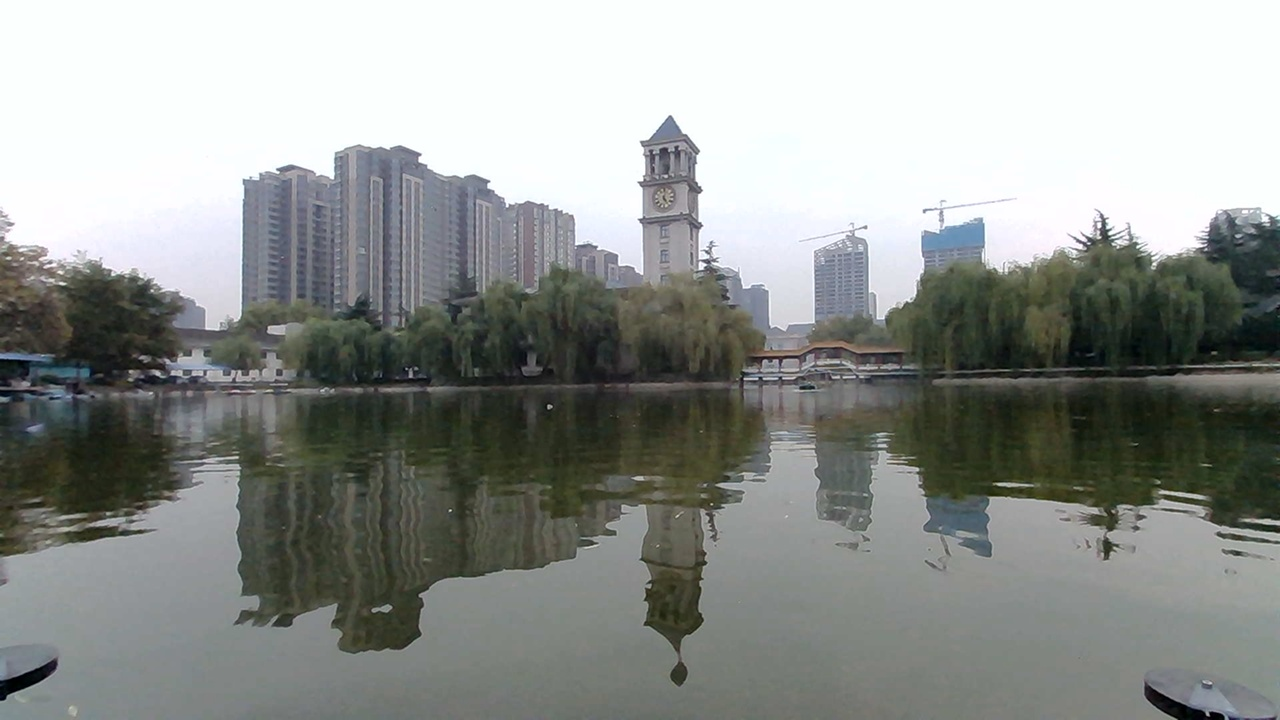bottle: (14, 415, 62, 449), (539, 393, 561, 415)
